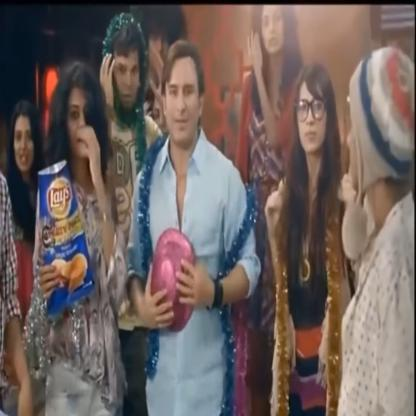indian_magic_masala: (38, 167, 93, 314)
